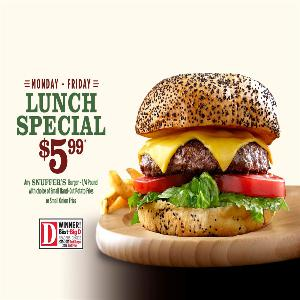cheeseburger_475cal: (124, 62, 288, 248)
